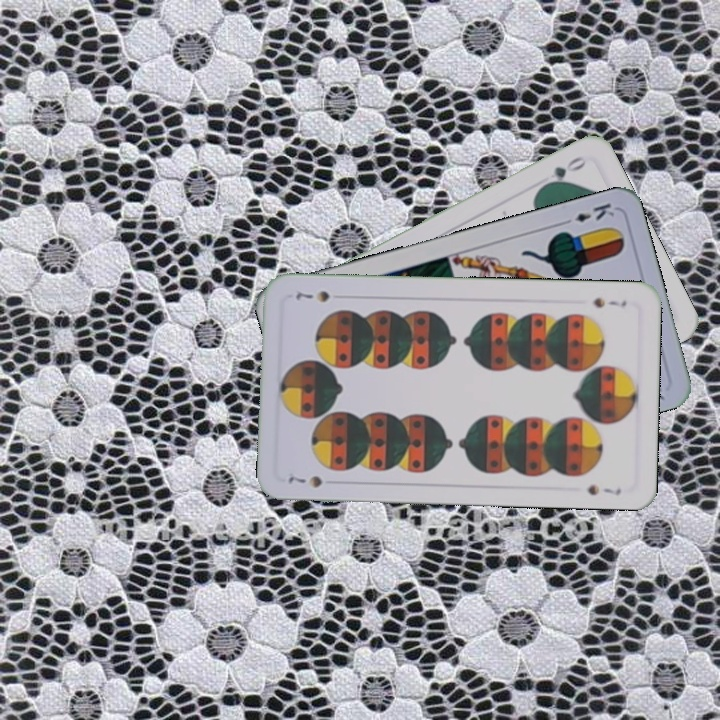EK: (558, 199, 617, 228)
GO: (537, 152, 590, 191)
S7: (284, 471, 325, 490), (589, 293, 629, 311)
